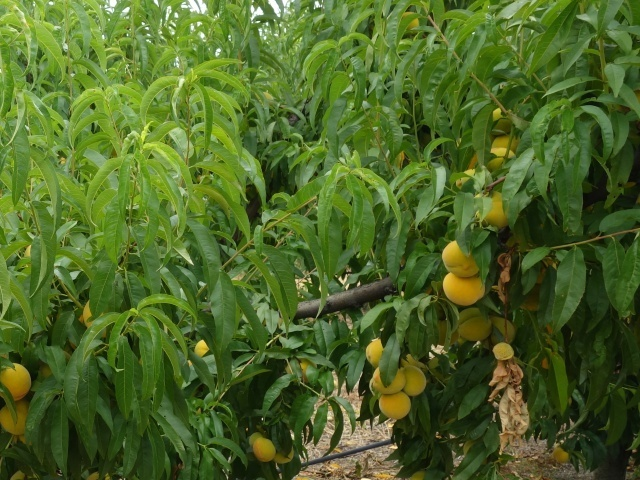peach: (439, 232, 483, 282), (471, 185, 516, 230), (439, 266, 485, 309), (453, 303, 494, 347), (1, 361, 36, 405), (1, 397, 35, 441), (76, 295, 111, 336), (376, 387, 415, 423), (368, 363, 408, 397), (485, 143, 523, 176), (484, 312, 519, 346), (398, 363, 431, 397), (362, 335, 394, 370), (486, 128, 528, 154), (288, 353, 321, 386), (187, 333, 214, 366), (248, 434, 277, 463), (269, 442, 298, 469), (550, 442, 571, 467)
